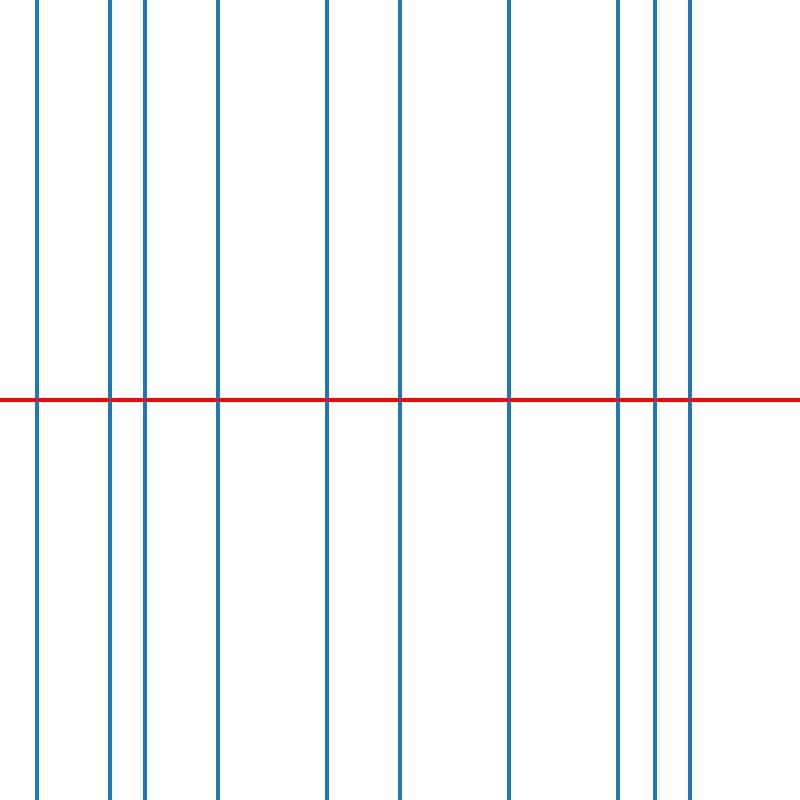root: (650, 396, 658, 404), (141, 396, 149, 404), (32, 396, 40, 404), (396, 396, 403, 404), (214, 396, 221, 404), (323, 396, 330, 404), (505, 396, 512, 404), (105, 396, 112, 404), (614, 396, 621, 404), (687, 396, 694, 404)
